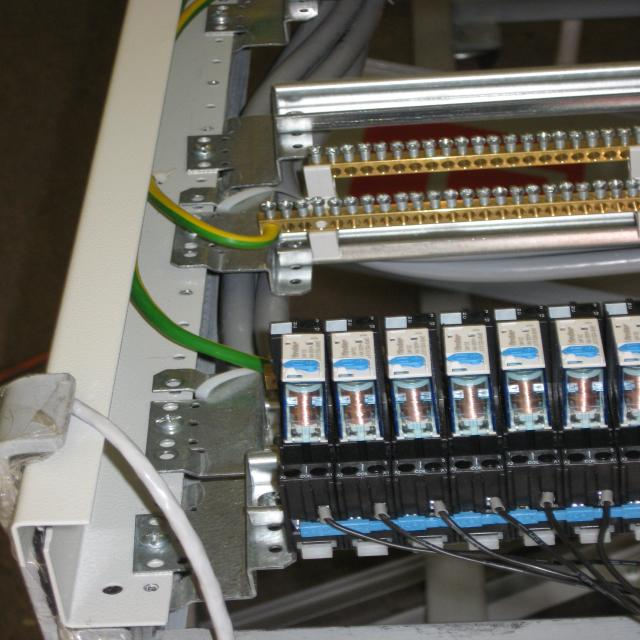Relais: (501, 320, 548, 376), (384, 329, 434, 381), (444, 324, 493, 375), (280, 331, 328, 381), (559, 319, 610, 366), (330, 330, 376, 380), (610, 314, 640, 367)
